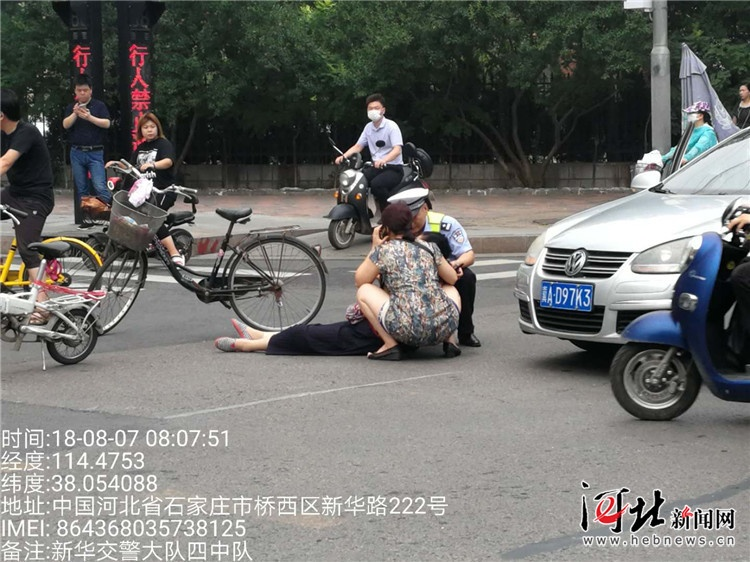falling: (217, 204, 456, 363)
